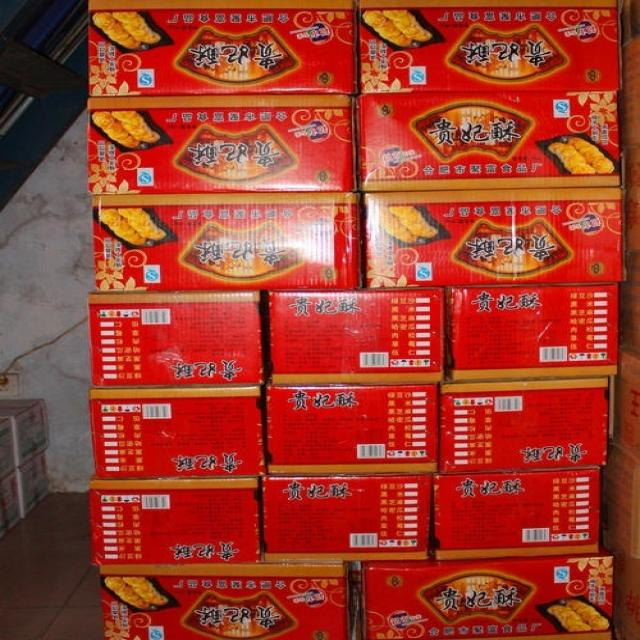box: (88, 94, 355, 197), (359, 186, 625, 289), (355, 91, 620, 194), (92, 193, 359, 292), (89, 1, 358, 96), (351, 542, 611, 639), (357, 1, 624, 93), (99, 566, 353, 638), (88, 289, 265, 388), (268, 290, 442, 387), (445, 285, 618, 382), (439, 378, 609, 474), (92, 387, 266, 479), (434, 468, 602, 562), (266, 385, 438, 474), (264, 475, 434, 563), (92, 478, 257, 564)
